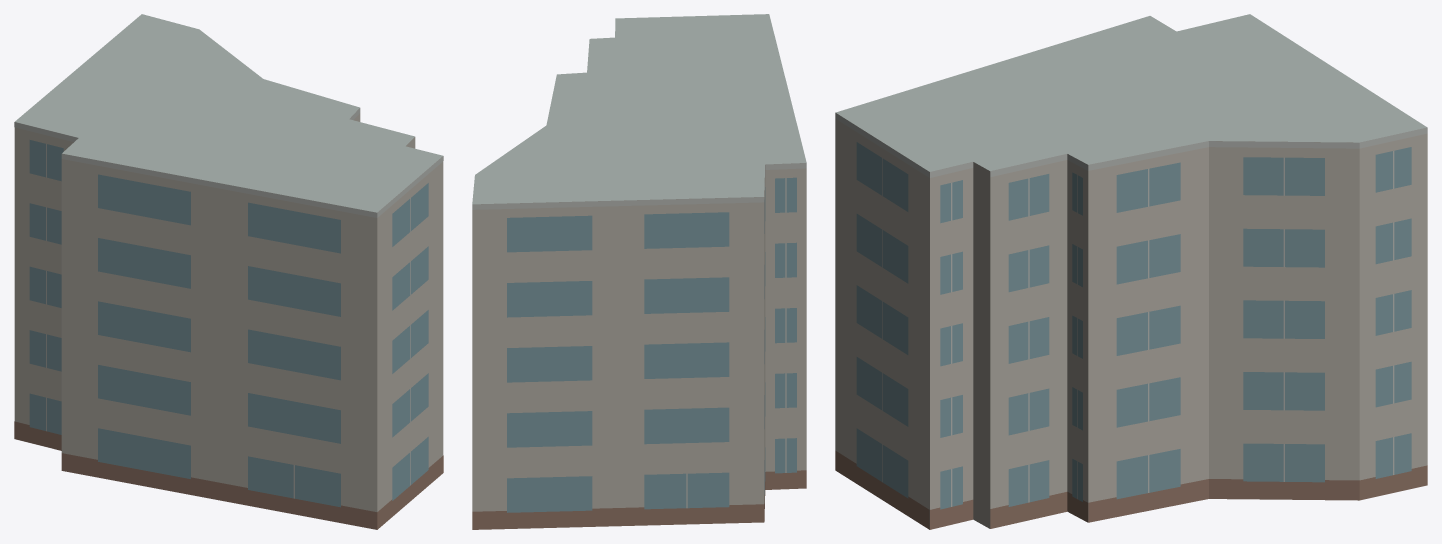
The model's file is survey-upis-32778790.glb.
The picture shows the model from 3 angles, left to right: view 1: azimuth 30°, elevation 25°; view 2: azimuth 150°, elevation 25°; view 3: azimuth 270°, elevation 25°; orthographic projection. The views are drawn at different scales.
Parts seen in each view (by area): view 1: survey-upis-32778790.tmp; view 2: survey-upis-32778790.tmp; view 3: survey-upis-32778790.tmp.
Part boxes in pixels (<box>): survey-upis-32778790.tmp: <box>14,14,443,529</box>; survey-upis-32778790.tmp: <box>472,14,806,529</box>; survey-upis-32778790.tmp: <box>835,14,1427,529</box>.
Size of the model in its own units: 13.55 by 14.3 by 21.45.
